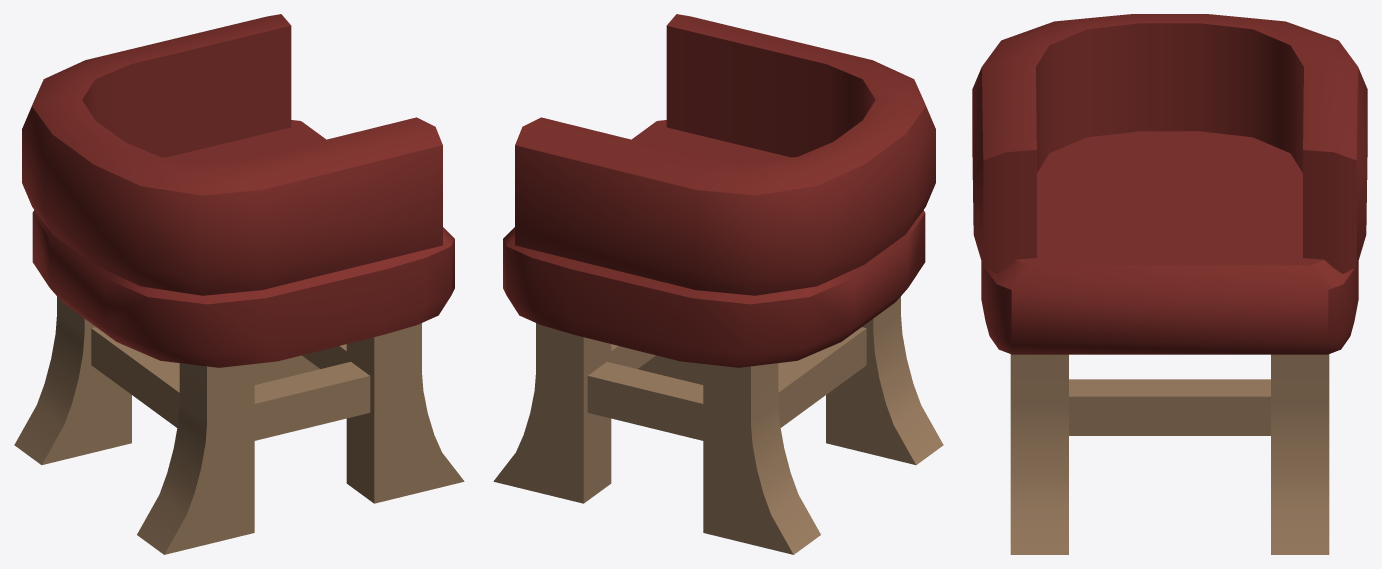
The model's file is chair_damask.glb.
3 renders of one model, left to right at view 1: azimuth 30°, elevation 25°; view 2: azimuth 150°, elevation 25°; view 3: azimuth 270°, elevation 25°, orthographic. The views are drawn at different scales.
Visible parts, largest first — view 1: Environment_Chair2; view 2: Environment_Chair2; view 3: Environment_Chair2.
Part boxes in pixels (x1,y1,x2,y2): Environment_Chair2: (14,14,464,554); Environment_Chair2: (493,14,943,554); Environment_Chair2: (972,14,1367,554).
Bounding box in the file's own units: 0.9825 × 1.05 × 0.977.
Materials: 1 (1 with a texture image).
